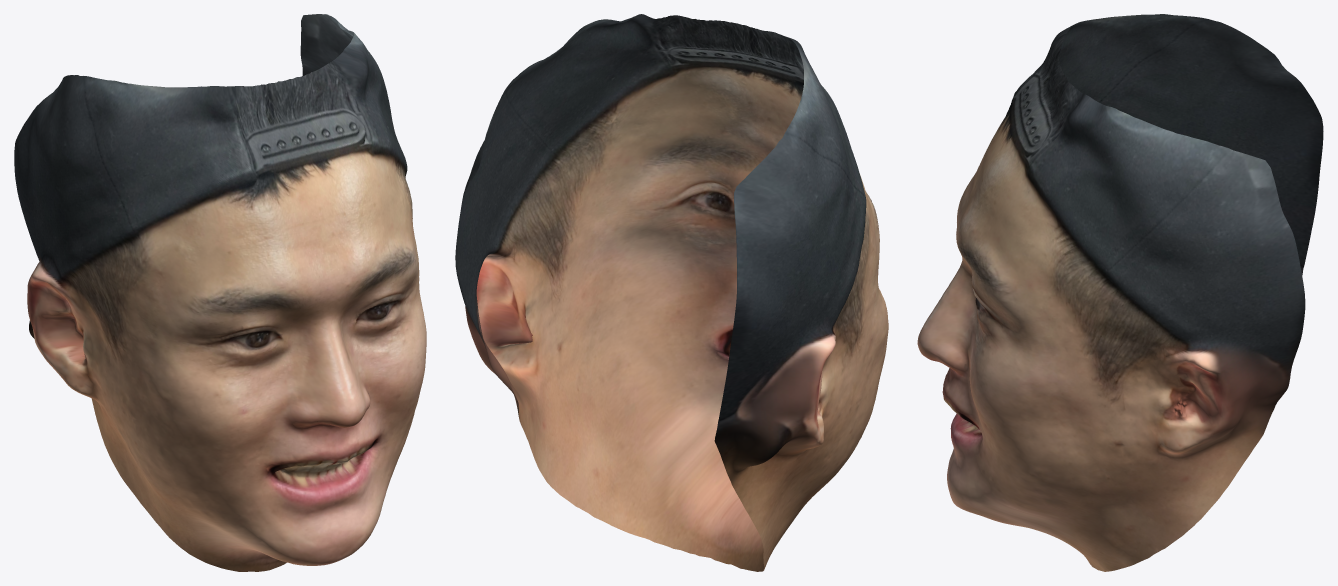
The picture shows the model from 3 angles, left to right: view 1: azimuth 30°, elevation 25°; view 2: azimuth 150°, elevation 25°; view 3: azimuth 270°, elevation 25°; orthographic projection. The views are drawn at different scales.
Visible parts, largest first — view 1: face; view 2: face; view 3: face.
Part boxes in pixels (x1,y1,x2,y2): face: (14,14,426,571); face: (455,14,888,571); face: (917,14,1323,571).
Bounding box in the file's own units: 196 × 271 × 198.
Materials: 1 (1 with a texture image).
